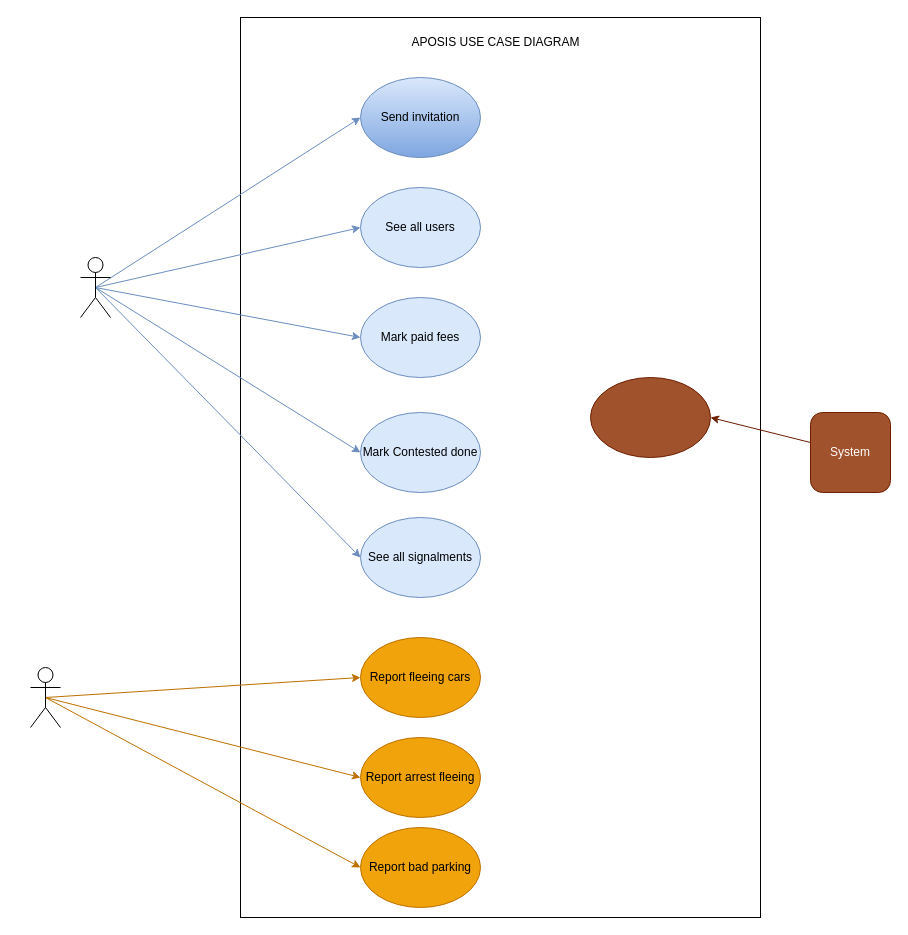
The diagram is 908 pixels wide and 935 high, and some of its shapes have lost their labels. The shapes that lost their labels are listed below. From the top down, each one's centre as x and y in pixels, then its label:
At [95,287]: "Admin".
At [650,417]: "Notify nearby policemen".
At [45,697]: "Policeman".
